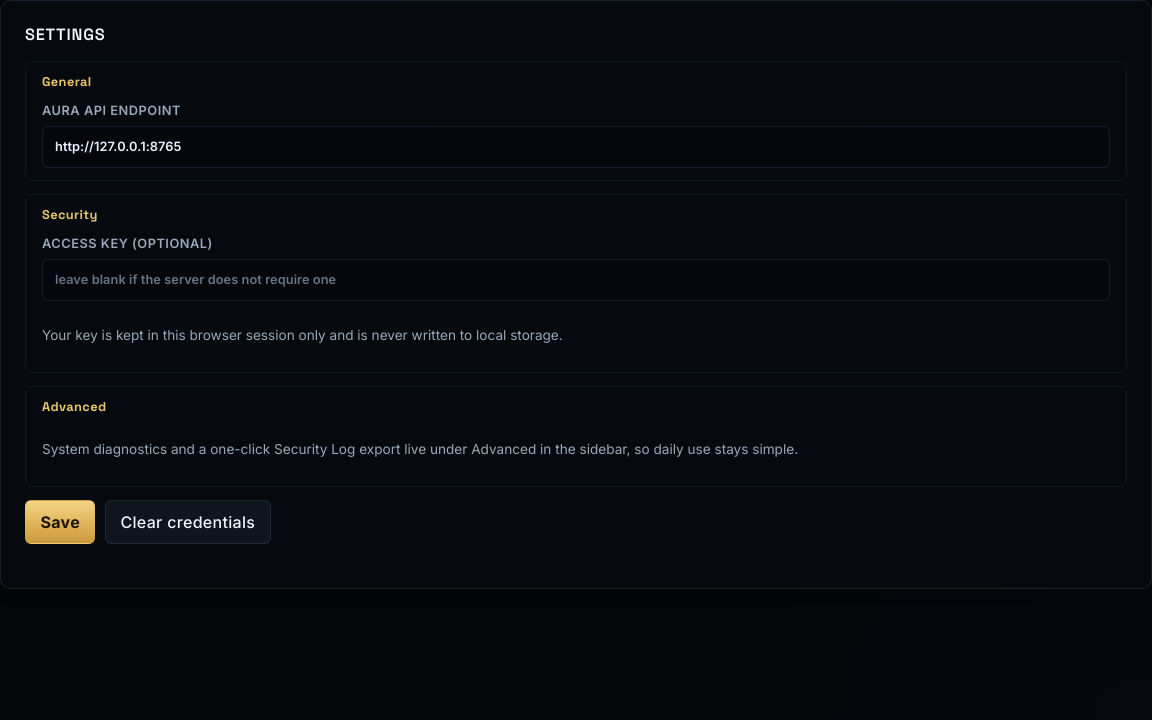
SettingsPage › persists endpoint into the provider state
This screenshot has width=1152, height=720.
Step 1. Type "http://127.0.0.1:9999" into the field labelled "AURA API endpoint" → point(576, 147), box [42, 126, 1110, 168]
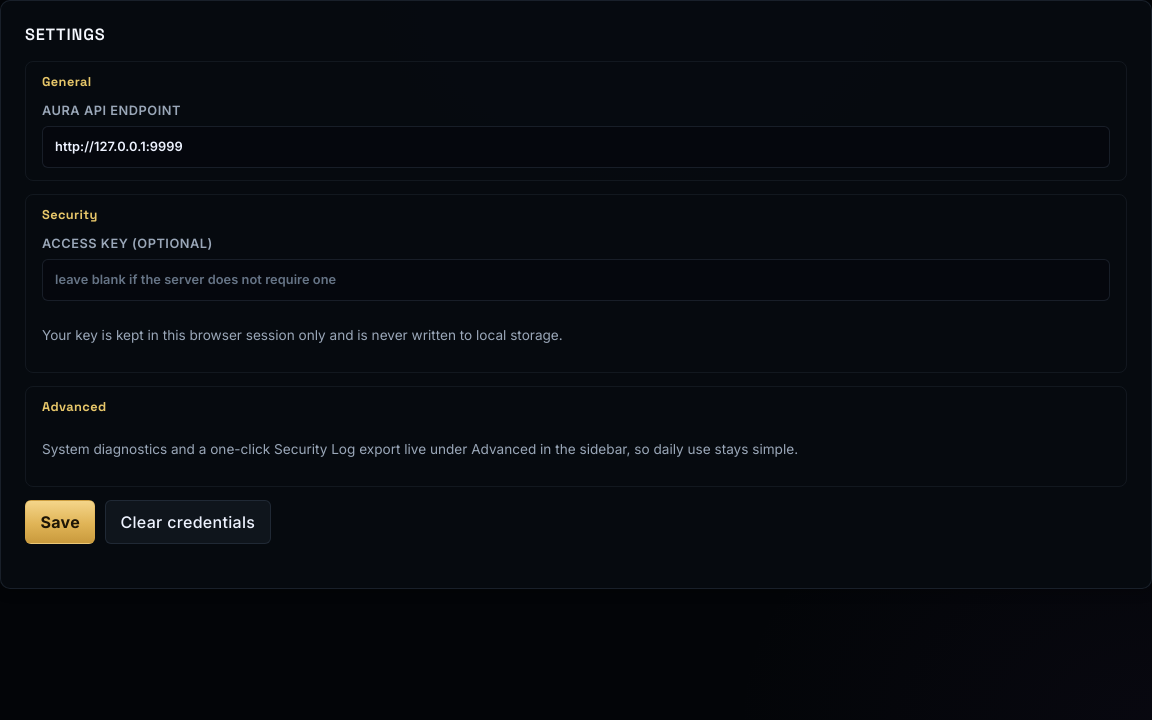
Step 2. Click the button "Save" → point(60, 522), box [25, 500, 95, 544]
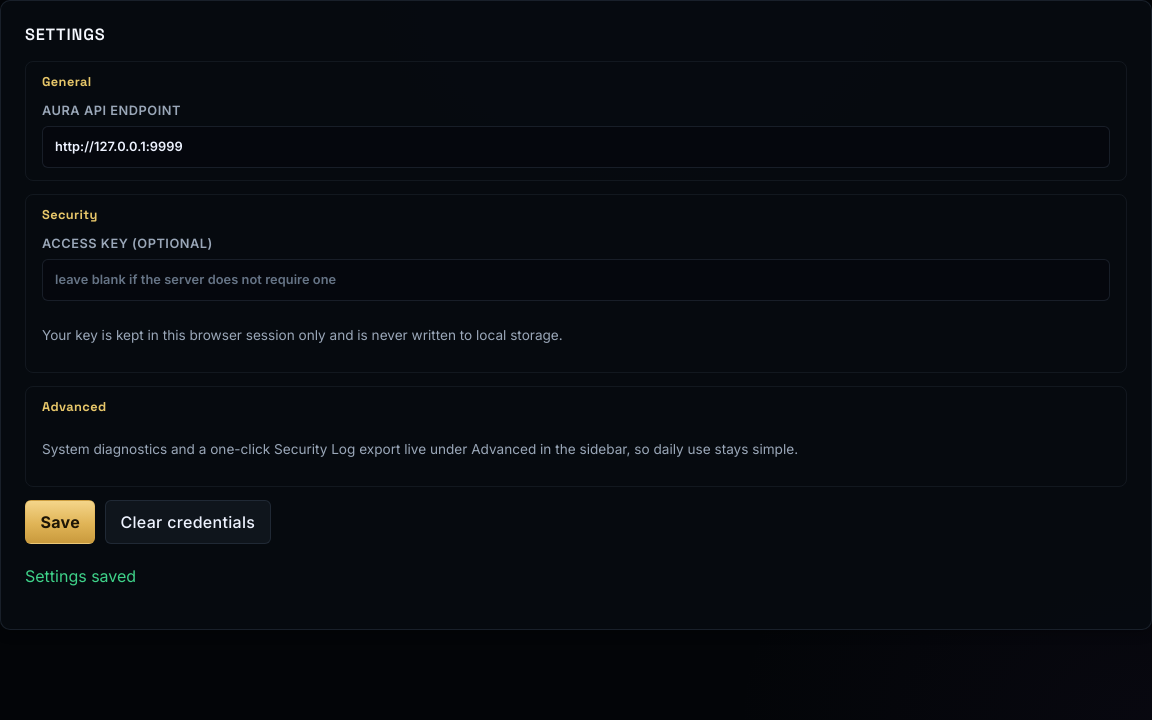
Now the text "Settings saved" is shown, box [25, 566, 136, 586]
